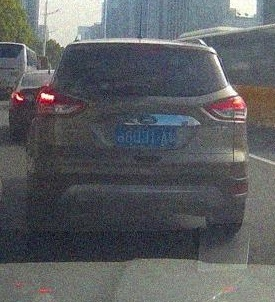L_light: (33, 86, 87, 117)
R_light: (200, 93, 247, 123)
T_light: (136, 44, 158, 52)
day-left: (28, 34, 247, 236)
